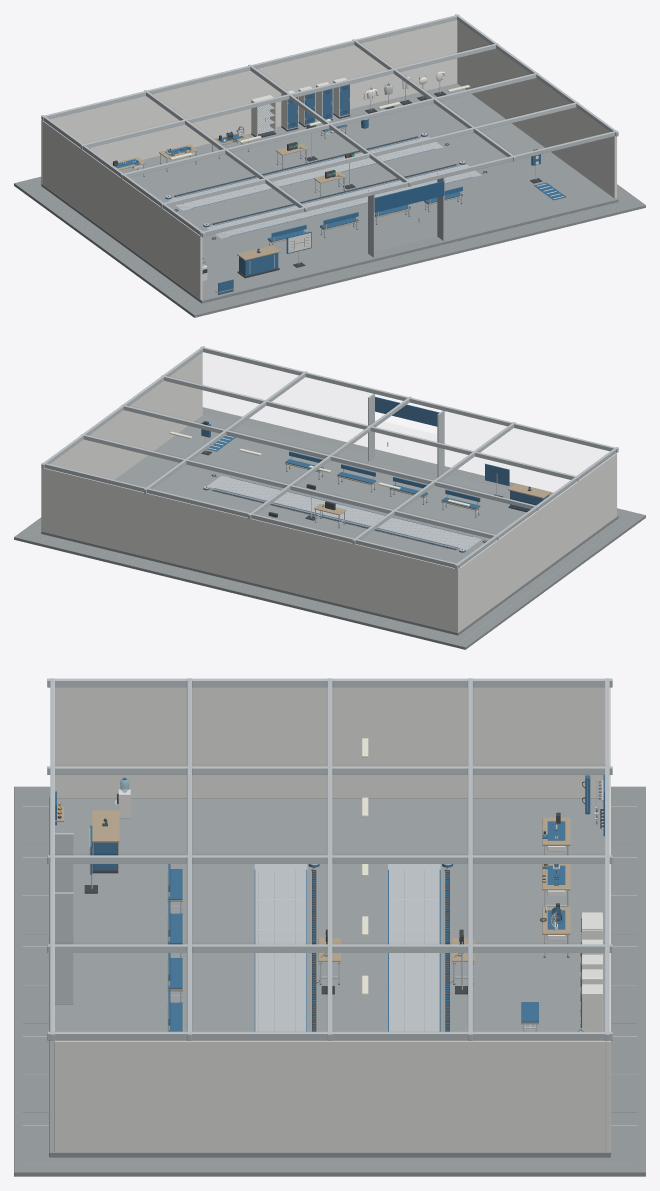
The model's file is fencing-club-and-tournament-piste-wired--c5ec1795-starter-scene__31257.glb.
3 views of the same model, one above another, from view 1: azimuth 30°, elevation 25°; view 2: azimuth 150°, elevation 25°; view 3: azimuth 270°, elevation 25° (orthographic). The views are drawn at different scales.
Parts seen in each view (by area): view 1: 001-roofed-fencing-hall/0, 001-roofed-fencing-hall/1, 001-roofed-fencing-hall/4, 000-club-floor-base/0, 001-roofed-fencing-hall/3, 097-club-reception/1, 080-equipment-drying-cabinet/1; view 2: 001-roofed-fencing-hall/1, 001-roofed-fencing-hall/0, 001-roofed-fencing-hall/4, 001-roofed-fencing-hall/2, 000-club-floor-base/0, 001-roofed-fencing-hall/3, 029-conductive-piste-section/0, 035-conductive-piste-section/0, 030-conductive-piste-section/0, 034-conductive-piste-section/0, 031-conductive-piste-section/0, 033-conductive-piste-section/0; view 3: 001-roofed-fencing-hall/1, 001-roofed-fencing-hall/0, 000-club-floor-base/0, 001-roofed-fencing-hall/4, 030-conductive-piste-section/0, 033-conductive-piste-section/0, 029-conductive-piste-section/0, 032-conductive-piste-section/0, 003-conductive-piste-section/0, 006-conductive-piste-section/0, 002-conductive-piste-section/0, 005-conductive-piste-section/0 (+7 smaller).
Boxes of the visible parts, left/top/right/bottom form: 001-roofed-fencing-hall/0: left=41, top=83, right=618, bottom=303; 001-roofed-fencing-hall/1: left=41, top=20, right=616, bottom=299; 001-roofed-fencing-hall/4: left=41, top=14, right=618, bottom=257; 000-club-floor-base/0: left=14, top=176, right=645, bottom=317; 001-roofed-fencing-hall/3: left=374, top=181, right=444, bottom=212; 097-club-reception/1: left=239, top=253, right=278, bottom=276; 080-equipment-drying-cabinet/1: left=251, top=95, right=276, bottom=136; 001-roofed-fencing-hall/1: left=41, top=352, right=616, bottom=632; 001-roofed-fencing-hall/0: left=41, top=414, right=618, bottom=635; 001-roofed-fencing-hall/4: left=41, top=346, right=618, bottom=569; 001-roofed-fencing-hall/2: left=203, top=353, right=608, bottom=492; 000-club-floor-base/0: left=14, top=407, right=645, bottom=649; 001-roofed-fencing-hall/3: left=375, top=396, right=439, bottom=426; 029-conductive-piste-section/0: left=423, top=528, right=472, bottom=547; 035-conductive-piste-section/0: left=215, top=478, right=263, bottom=497; 030-conductive-piste-section/0: left=389, top=520, right=437, bottom=539; 034-conductive-piste-section/0: left=250, top=486, right=298, bottom=505; 031-conductive-piste-section/0: left=354, top=511, right=402, bottom=531; 033-conductive-piste-section/0: left=284, top=494, right=325, bottom=514; 001-roofed-fencing-hall/1: left=54, top=687, right=610, bottom=1152; 001-roofed-fencing-hall/0: left=49, top=796, right=610, bottom=1157; 000-club-floor-base/0: left=14, top=786, right=645, bottom=1176; 001-roofed-fencing-hall/4: left=47, top=678, right=612, bottom=1040; 030-conductive-piste-section/0: left=255, top=899, right=307, bottom=929; 033-conductive-piste-section/0: left=255, top=988, right=307, bottom=1018; 029-conductive-piste-section/0: left=255, top=870, right=307, bottom=899; 032-conductive-piste-section/0: left=255, top=959, right=307, bottom=988; 003-conductive-piste-section/0: left=389, top=899, right=439, bottom=929; 006-conductive-piste-section/0: left=389, top=988, right=439, bottom=1018; 002-conductive-piste-section/0: left=389, top=870, right=439, bottom=899; 005-conductive-piste-section/0: left=389, top=959, right=439, bottom=988.
Bounding box in the file's own units: 26 × 4.06 × 18.
